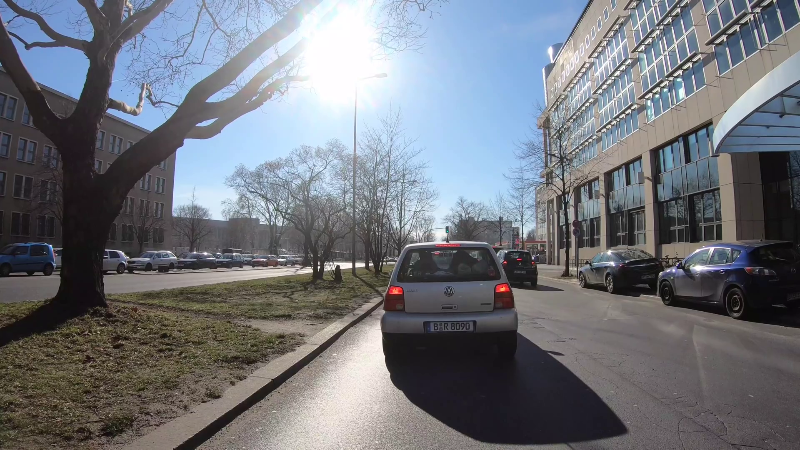Plate: (424, 321, 476, 332), (640, 271, 655, 279), (513, 268, 527, 275)
